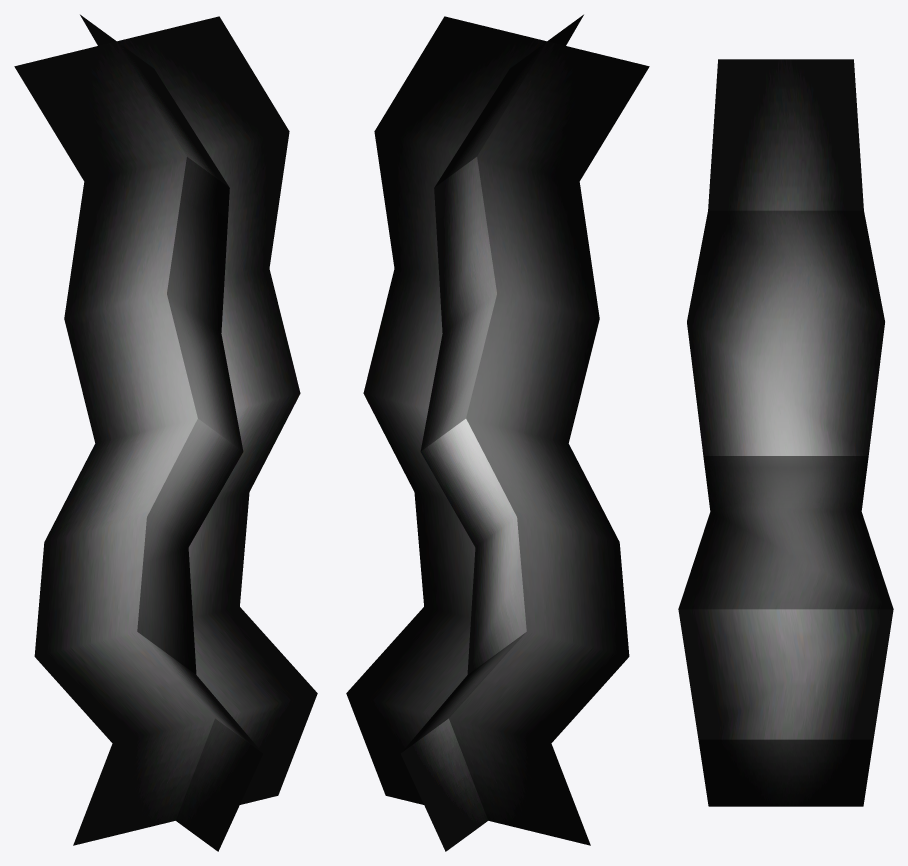
File: vfx_kurp_0493.dae
The picture shows the model from 3 angles, left to right: view 1: azimuth 30°, elevation 25°; view 2: azimuth 150°, elevation 25°; view 3: azimuth 270°, elevation 25°; orthographic projection. The views are drawn at different scales.
Parts seen in each view (by area): view 1: vfx_kurp_0493; view 2: vfx_kurp_0493; view 3: vfx_kurp_0493.
Part boxes in pixels (x1=…): vfx_kurp_0493: x1=14, y1=14, x2=317, y2=851; vfx_kurp_0493: x1=346, y1=14, x2=649, y2=851; vfx_kurp_0493: x1=678, y1=59, x2=893, y2=806.
Bounding box in the file's own units: 6.56 × 4.44 × 16.4.
Materials: 1 (1 with a texture image).
